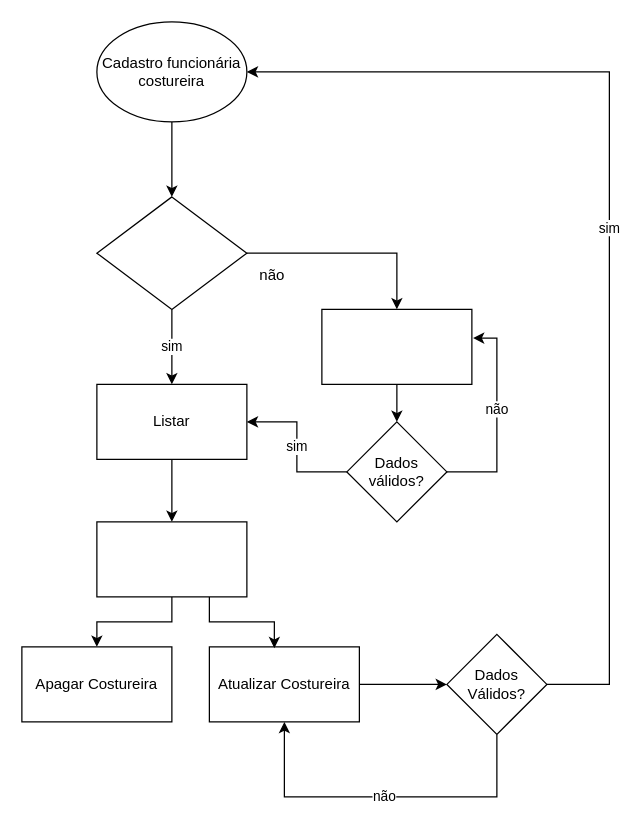
Some shapes in this 641 by 829 pixel diagram are drawn without their labels. Here are the shapes that lost their labels. From the top down, the box of each, then its label:
(96, 196, 247, 309): Tem Cadastro?
(321, 308, 472, 384): Criar cadastro (nome,telefone, endereço)
(96, 521, 247, 597): Buscar Costureira
